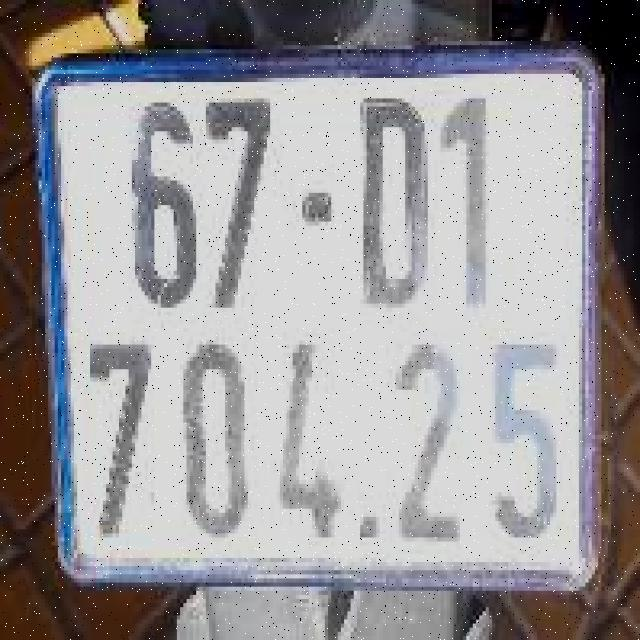0: (169, 330, 256, 552)
1: (439, 94, 516, 300)
2: (381, 334, 474, 552)
4: (265, 324, 349, 554)
5: (480, 330, 568, 548)
6: (117, 94, 201, 308)
7: (80, 328, 164, 546), (202, 80, 274, 318)
D: (351, 84, 431, 322)
